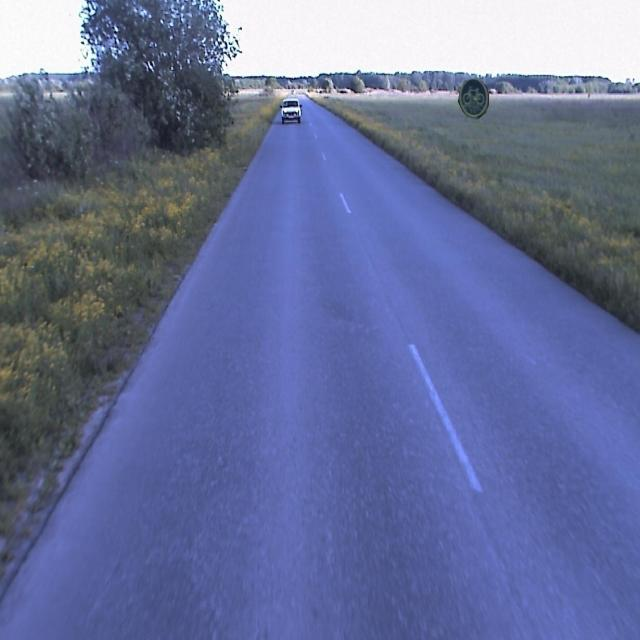road: (0, 92, 639, 639)
